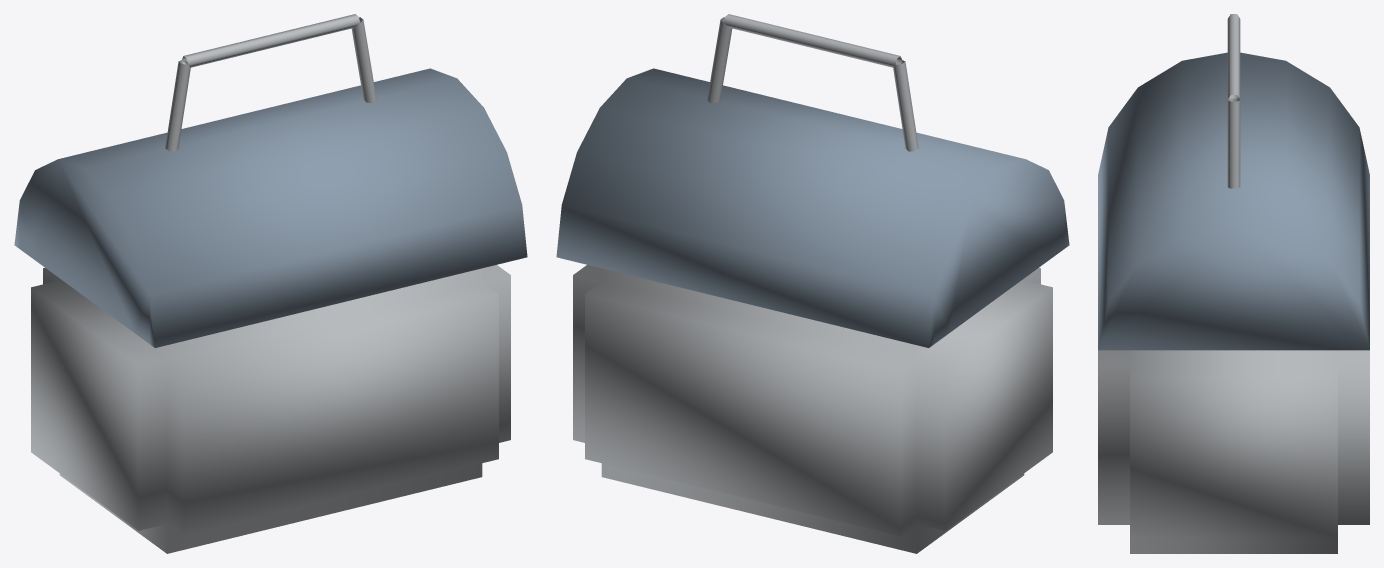
File: lunch_pail.glb
The picture shows the model from 3 angles, left to right: view 1: azimuth 30°, elevation 25°; view 2: azimuth 150°, elevation 25°; view 3: azimuth 270°, elevation 25°; orthographic projection. The views are drawn at different scales.
Parts seen in each view (by area): view 1: pail, pail_lid, pail_handle; view 2: pail, pail_lid, pail_handle; view 3: pail_lid, pail, pail_handle.
Boxes of the visible parts, bbox=[...] form: pail: bbox=[31, 265, 510, 553]; pail_lid: bbox=[14, 68, 527, 347]; pail_handle: bbox=[165, 14, 376, 151]; pail: bbox=[573, 265, 1052, 553]; pail_lid: bbox=[556, 68, 1069, 347]; pail_handle: bbox=[707, 14, 918, 151]; pail_lid: bbox=[1098, 52, 1369, 350]; pail: bbox=[1098, 350, 1369, 553]; pail_handle: bbox=[1227, 14, 1240, 188].
Size of the model in its own units: 0.26 by 0.2935 by 0.17.
